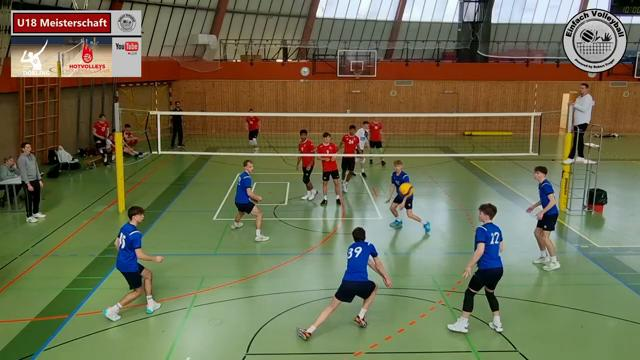Player: (448, 203, 503, 332), (103, 206, 163, 320), (527, 166, 560, 270), (386, 160, 430, 232), (231, 160, 268, 241), (317, 132, 340, 205), (338, 125, 358, 192), (296, 156, 316, 200), (356, 121, 368, 177), (245, 116, 260, 151), (369, 120, 383, 153)
Receive: (293, 222, 394, 338)
ball: (401, 182, 414, 197)
